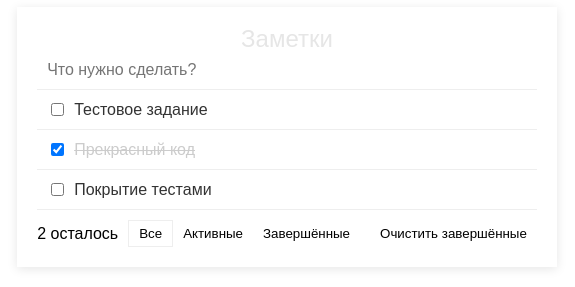
it: TodoApp › Автоматическое переключение фильтра
What coordinates should you click on to do the following:
click the button "Завершённые"
I would click on:
 (306, 234)
Its box is left=253, top=221, right=360, bottom=246.
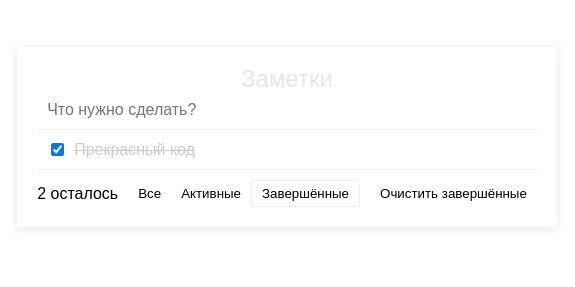
What coordinates should you click on to do the following:
click the list item "Прекрасный код"
I would click on:
 (287, 150)
Its box is left=37, top=130, right=537, bottom=170.
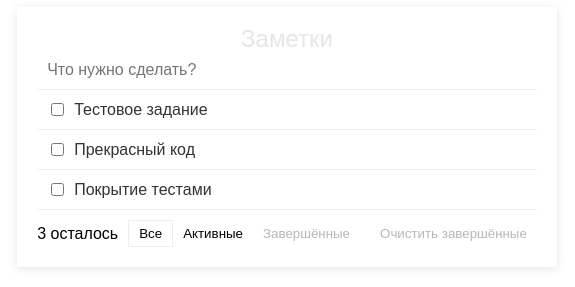
Now the list item "Тестовое задание" is shown, box left=37, top=90, right=537, bottom=130
Now the list item "Покрытие тестами" is shown, box left=37, top=170, right=537, bottom=210
